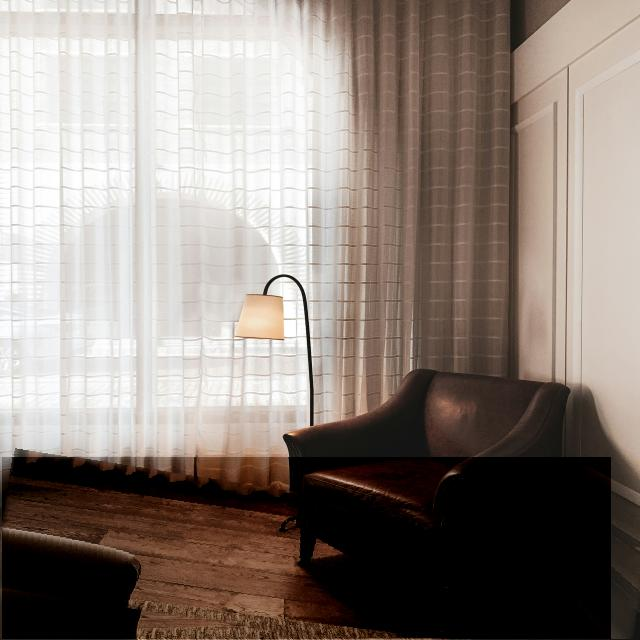floor: (2, 458, 611, 639)
